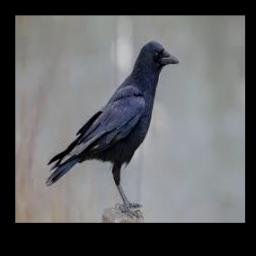Crow: (45, 41, 179, 219)
